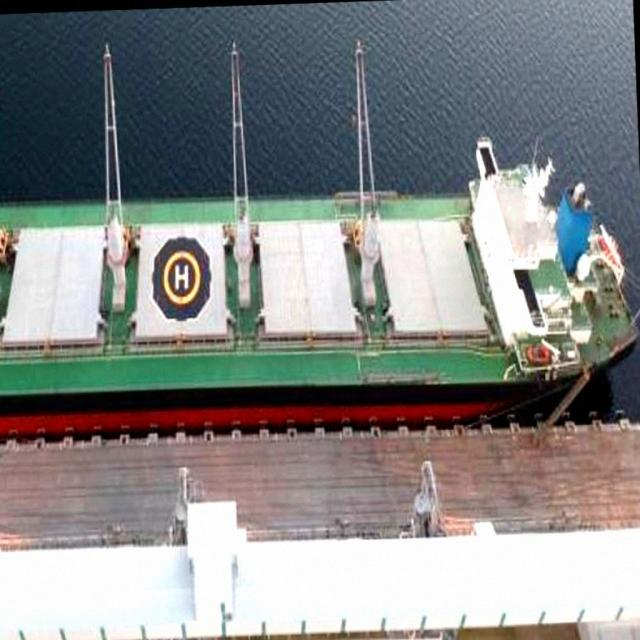helipad: (159, 248, 202, 306)
